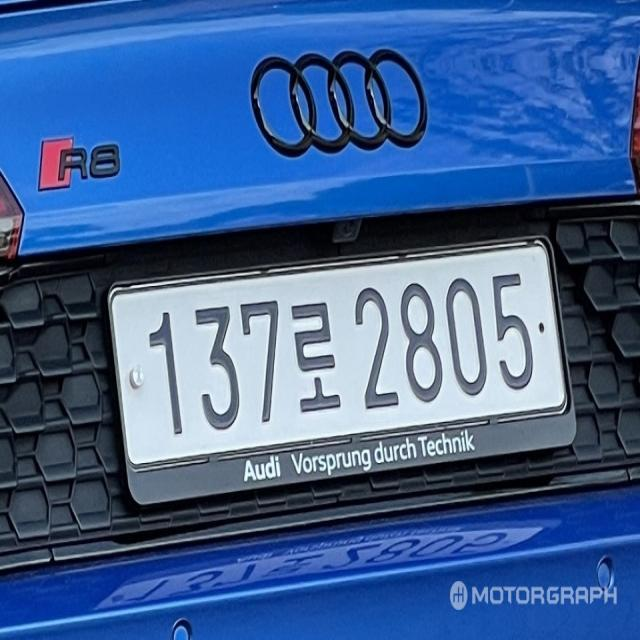car: (97, 218, 575, 504)
